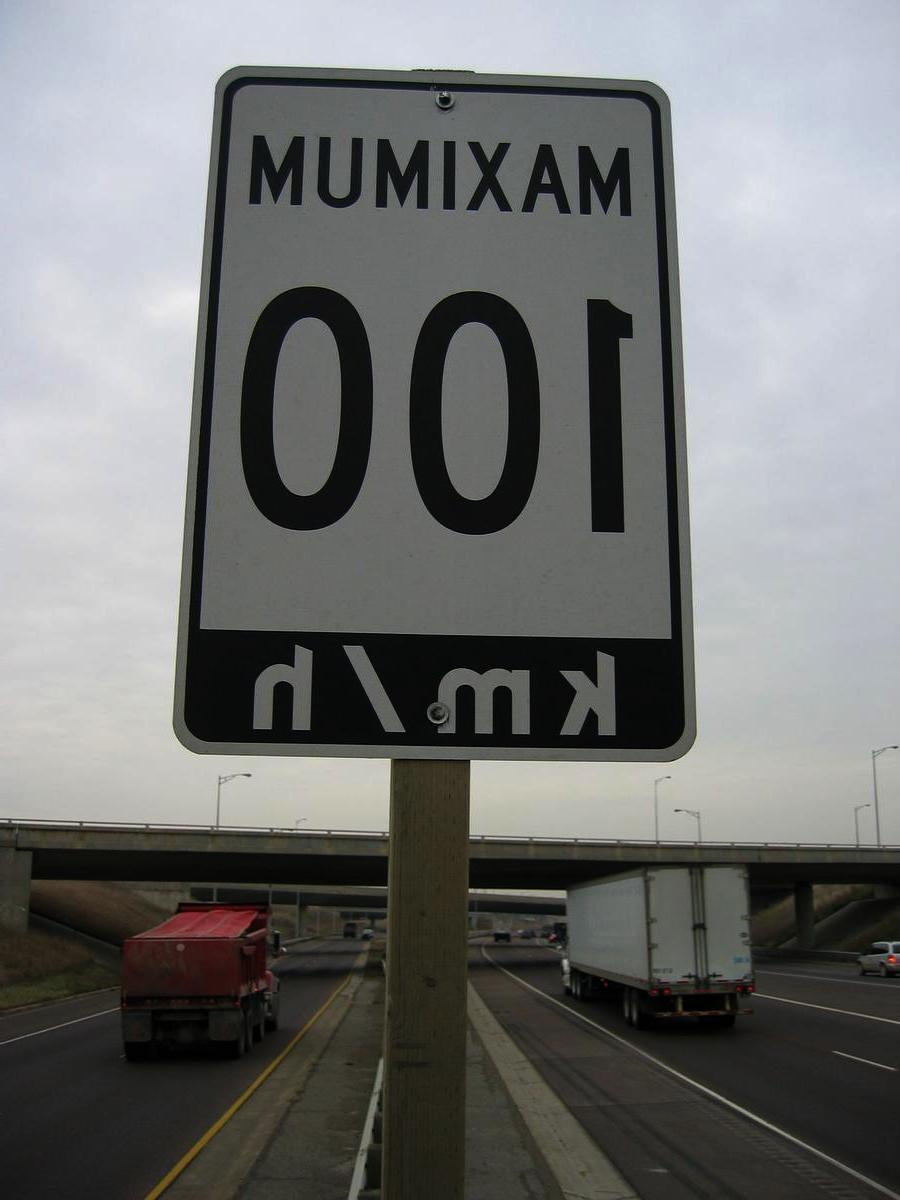speed limit sign: (174, 79, 686, 759)
